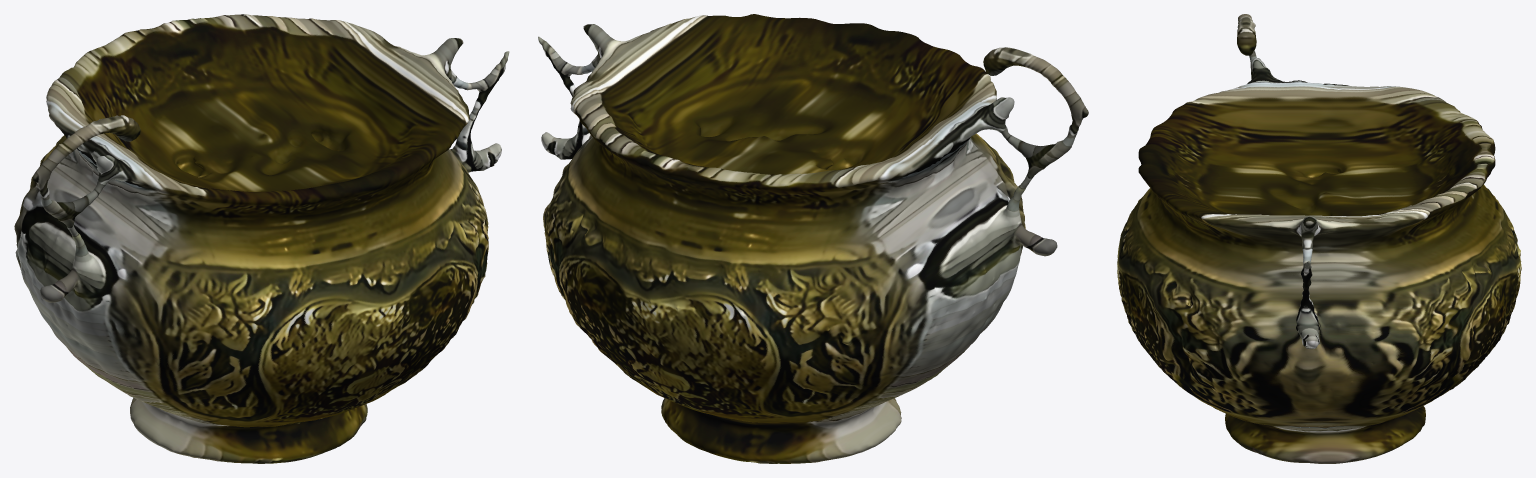
File: kfl-2250.glb
The picture shows the model from 3 angles, left to right: view 1: azimuth 30°, elevation 25°; view 2: azimuth 150°, elevation 25°; view 3: azimuth 270°, elevation 25°; orthographic projection. The views are drawn at different scales.
Visible parts, largest first — view 1: kfl-2250; view 2: kfl-2250; view 3: kfl-2250.
Boxes of the visible parts, <box> form: kfl-2250: <box>14,14,509,463</box>; kfl-2250: <box>538,14,1088,463</box>; kfl-2250: <box>1117,14,1521,463</box>.
Size of the model in its own units: 0.9881 by 0.7045 by 0.7884.
Materials: 1 (1 with a texture image).
